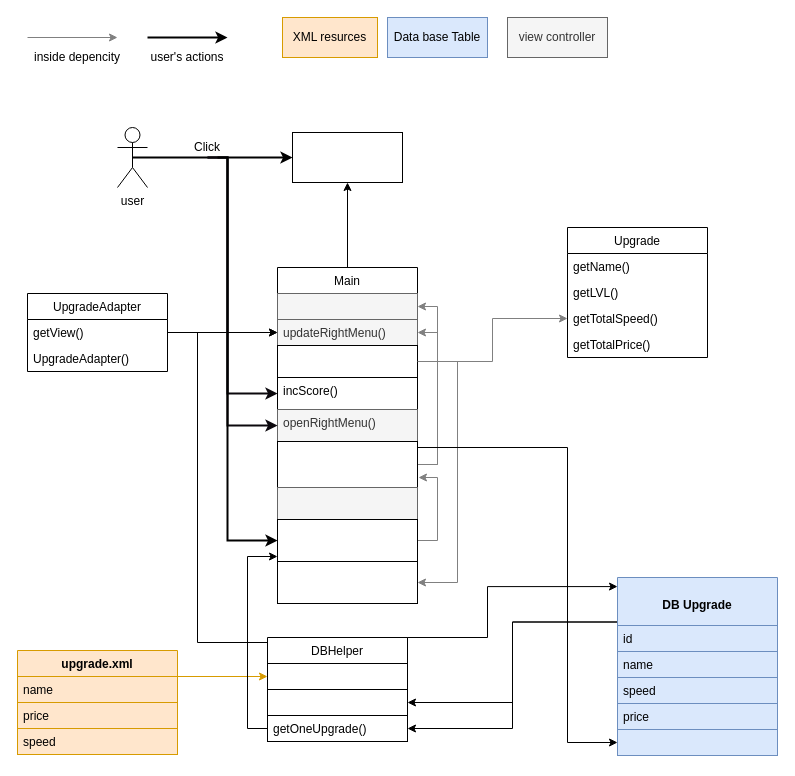
The diagram is 795 pixels wide and 776 high, and some of its shapes have lost their labels. The centre of each missing label's shape, as x and y in pixels:
"buy() (Upgrade)" belongs at [347,464].
"getAllUpgrades()" belongs at [337,702].
"lvl" belongs at [697,742].
"roundAvoid()" belongs at [347,361].
"score up and show()" belongs at [347,503].
"setInitianalUpgrade()" belongs at [337,676].
"timer of score up and score show" belongs at [347,582].
"updatePlayerSpeed()" belongs at [347,306].
"Upgrade item listener()" belongs at [347,540].
"view" belongs at [347,157].
